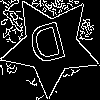D: (26, 20, 71, 74)
